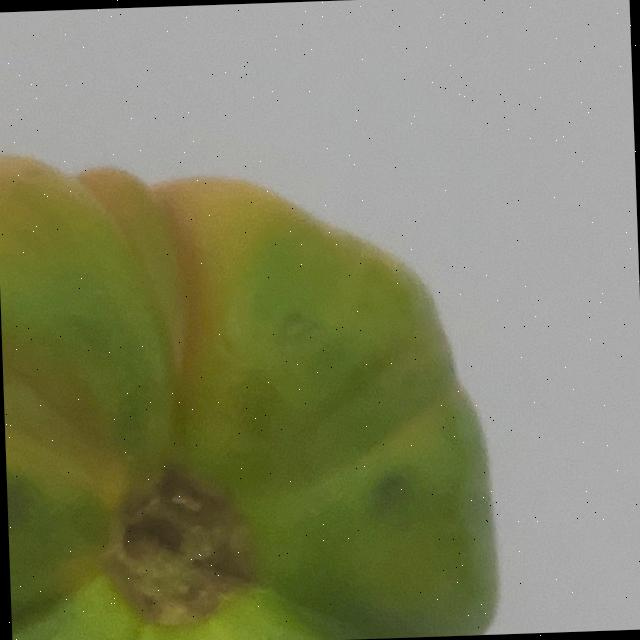tomato: (0, 23, 640, 640)
